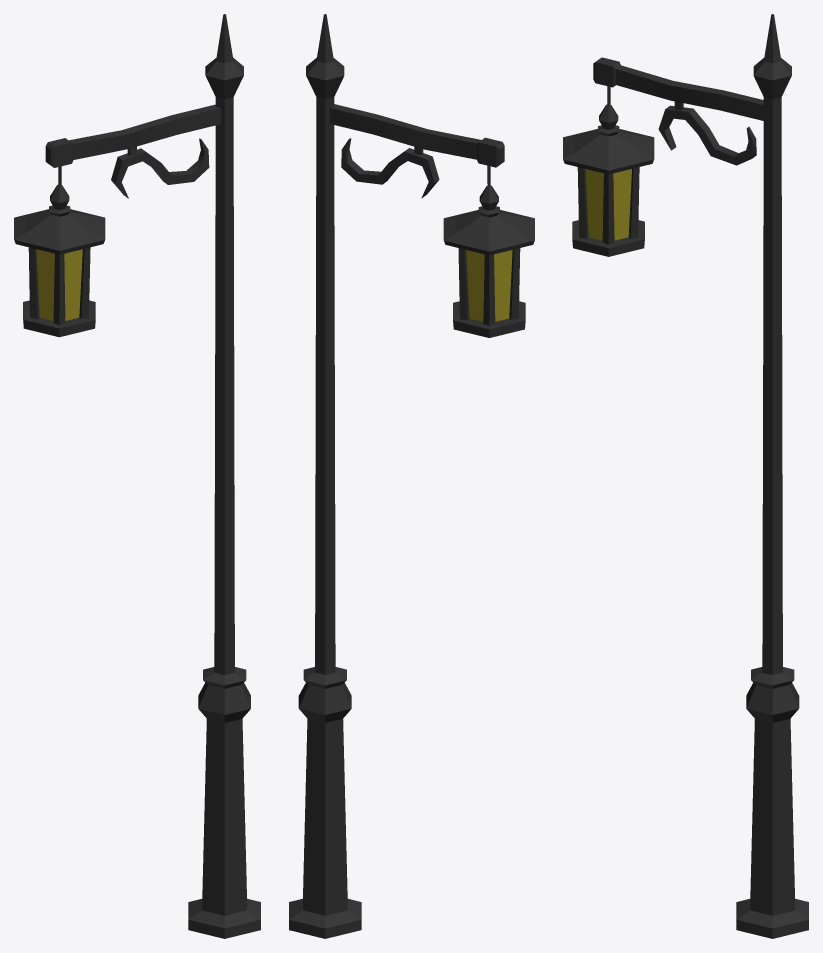
The model's file is SM_lamp_02.fbx.
3 renders of one model, left to right at view 1: azimuth 30°, elevation 25°; view 2: azimuth 150°, elevation 25°; view 3: azimuth 330°, elevation 25°, orthographic.
Parts seen in each view (by area): view 1: Cylinder005; view 2: Cylinder005; view 3: Cylinder005.
Boxes of the visible parts, x1,y1,x2,y2 form: Cylinder005: (14, 14, 260, 938); Cylinder005: (289, 14, 534, 938); Cylinder005: (563, 14, 808, 938).
Size of the model in its own units: 53.83 by 189 by 17.25.
